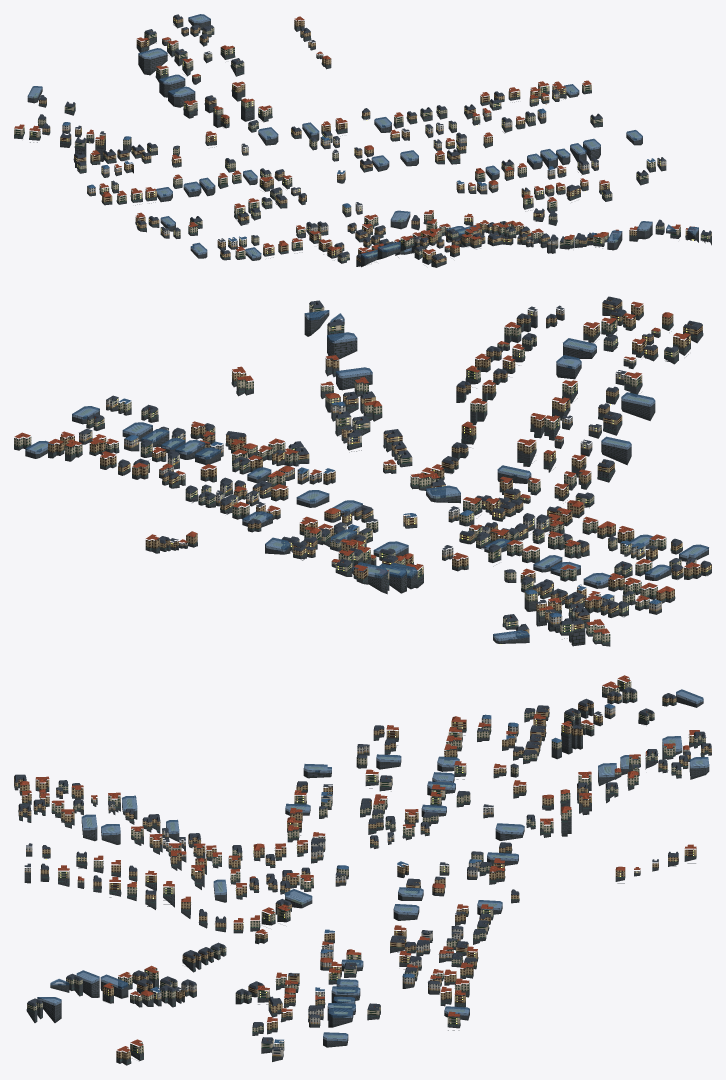
File: osm_buildings_T_E01_S02_Q1.glb
3 renders of one model, top to bottom at view 1: azimuth 30°, elevation 25°; view 2: azimuth 150°, elevation 25°; view 3: azimuth 270°, elevation 25°, orthographic. The views are drawn at different scales.
Parts seen in each view (by area): view 1: OSM_T_E01_S02_Q1_foundation, OSM_T_E01_S02_Q1_wall_french_ochre, OSM_T_E01_S02_Q1_wall_cream_stucco, OSM_T_E01_S02_Q1_greenhouse_blend, OSM_T_E01_S02_Q1_roof_terracotta, OSM_T_E01_S02_Q1_roof_mansard_slate, OSM_T_E01_S02_Q1_roof_mansard_deck, OSM_T_E01_S02_Q1_wall_warm_white, OSM_T_E01_S02_Q1_roof_mint_metal, OSM_T_E01_S02_Q1_balcony_railing, OSM_T_E01_S02_Q1_trim_cornice, OSM_T_E01_S02_Q1_window_emissive_warm (+2 smaller); view 2: OSM_T_E01_S02_Q1_foundation, OSM_T_E01_S02_Q1_wall_french_ochre, OSM_T_E01_S02_Q1_wall_cream_stucco, OSM_T_E01_S02_Q1_greenhouse_blend, OSM_T_E01_S02_Q1_roof_terracotta, OSM_T_E01_S02_Q1_roof_mansard_slate, OSM_T_E01_S02_Q1_roof_mansard_deck, OSM_T_E01_S02_Q1_roof_mint_metal, OSM_T_E01_S02_Q1_wall_warm_white, OSM_T_E01_S02_Q1_trim_cornice, OSM_T_E01_S02_Q1_window_emissive_warm, OSM_T_E01_S02_Q1_balcony_railing (+2 smaller); view 3: OSM_T_E01_S02_Q1_foundation, OSM_T_E01_S02_Q1_wall_french_ochre, OSM_T_E01_S02_Q1_wall_cream_stucco, OSM_T_E01_S02_Q1_greenhouse_blend, OSM_T_E01_S02_Q1_roof_terracotta, OSM_T_E01_S02_Q1_roof_mansard_slate, OSM_T_E01_S02_Q1_roof_mansard_deck, OSM_T_E01_S02_Q1_wall_warm_white, OSM_T_E01_S02_Q1_trim_cornice, OSM_T_E01_S02_Q1_roof_mint_metal, OSM_T_E01_S02_Q1_balcony_railing, OSM_T_E01_S02_Q1_window_emissive_warm (+2 smaller).
Part boxes in pixels (x1,y1,x2,y2): OSM_T_E01_S02_Q1_foundation: [14, 19, 711, 267]; OSM_T_E01_S02_Q1_wall_french_ochre: [39, 16, 695, 263]; OSM_T_E01_S02_Q1_wall_cream_stucco: [14, 28, 711, 261]; OSM_T_E01_S02_Q1_greenhouse_blend: [27, 14, 698, 258]; OSM_T_E01_S02_Q1_roof_terracotta: [14, 16, 695, 254]; OSM_T_E01_S02_Q1_roof_mansard_slate: [38, 14, 711, 259]; OSM_T_E01_S02_Q1_roof_mansard_deck: [28, 14, 710, 257]; OSM_T_E01_S02_Q1_wall_warm_white: [62, 39, 666, 245]; OSM_T_E01_S02_Q1_roof_mint_metal: [14, 21, 708, 265]; OSM_T_E01_S02_Q1_balcony_railing: [23, 24, 707, 259]; OSM_T_E01_S02_Q1_trim_cornice: [16, 16, 711, 265]; OSM_T_E01_S02_Q1_window_emissive_warm: [24, 17, 707, 256]; OSM_T_E01_S02_Q1_foundation: [14, 306, 711, 646]; OSM_T_E01_S02_Q1_wall_french_ochre: [48, 299, 711, 634]; OSM_T_E01_S02_Q1_wall_cream_stucco: [14, 304, 681, 642]; OSM_T_E01_S02_Q1_greenhouse_blend: [25, 310, 708, 641]; OSM_T_E01_S02_Q1_roof_terracotta: [14, 301, 700, 633]; OSM_T_E01_S02_Q1_roof_mansard_slate: [79, 297, 711, 630]; OSM_T_E01_S02_Q1_roof_mansard_deck: [26, 296, 709, 640]; OSM_T_E01_S02_Q1_roof_mint_metal: [14, 306, 711, 643]; OSM_T_E01_S02_Q1_wall_warm_white: [79, 372, 696, 624]; OSM_T_E01_S02_Q1_trim_cornice: [19, 299, 705, 639]; OSM_T_E01_S02_Q1_window_emissive_warm: [34, 314, 710, 644]; OSM_T_E01_S02_Q1_balcony_railing: [16, 305, 711, 634]; OSM_T_E01_S02_Q1_foundation: [14, 687, 711, 1065]; OSM_T_E01_S02_Q1_wall_french_ochre: [14, 695, 711, 1059]; OSM_T_E01_S02_Q1_wall_cream_stucco: [27, 678, 705, 1053]; OSM_T_E01_S02_Q1_greenhouse_blend: [37, 689, 709, 1041]; OSM_T_E01_S02_Q1_roof_terracotta: [20, 675, 700, 1051]; OSM_T_E01_S02_Q1_roof_mansard_slate: [14, 689, 711, 1049]; OSM_T_E01_S02_Q1_roof_mansard_deck: [15, 687, 710, 1041]; OSM_T_E01_S02_Q1_wall_warm_white: [108, 706, 689, 1056]; OSM_T_E01_S02_Q1_trim_cornice: [15, 678, 711, 1061]; OSM_T_E01_S02_Q1_roof_mint_metal: [15, 687, 710, 1063]; OSM_T_E01_S02_Q1_balcony_railing: [21, 682, 706, 1051]; OSM_T_E01_S02_Q1_window_emissive_warm: [40, 683, 702, 1052].
Size of the model in its own units: 967 by 220 by 921.
16 materials, 16 textured.
